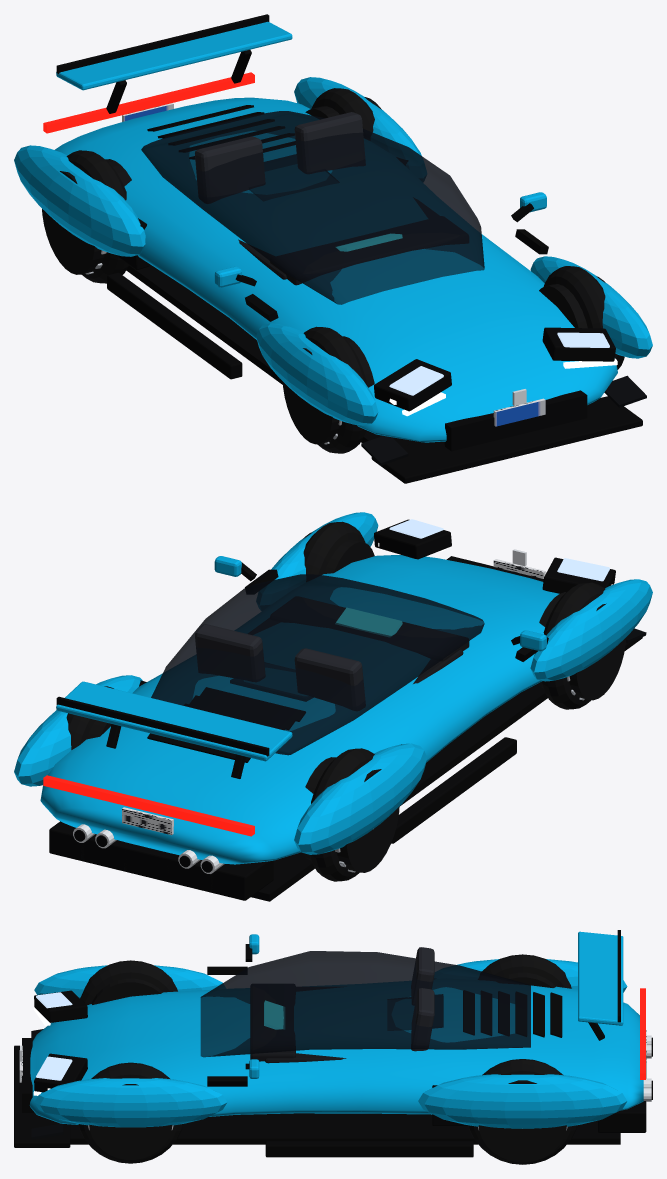
Rendered from car.glb.
3 renders of one model, top to bottom at view 1: azimuth 30°, elevation 25°; view 2: azimuth 150°, elevation 25°; view 3: azimuth 270°, elevation 25°, orthographic. The views are drawn at different scales.
Visible parts, largest first — view 1: Hull, Canopy, FlareRL, Splitter, FlareFL, Wing, IFloor, SeatBack.001, Grille, SeatBack, Skirt.001, FlareFR (+19 smaller); view 2: Hull, Canopy, FlareRL, FlareFL, Diffuser, Wing, IFloor, FlareRR, SeatBack.001, SeatBack, Skirt.001, TailBar (+20 smaller); view 3: Hull, Canopy, FlareRR, IFloor, FlareFR, Wing, Skirt, TreadRL, TreadFL, FlareFL, Splitter, TireFR (+28 smaller).
Part boxes in pixels (x1,y1,x2,y2): Hull: (55,97,617,442); Canopy: (141,111,484,304); FlareRL: (14,145,145,256); Splitter: (371,396,642,483); FlareFL: (256,323,378,425); Wing: (56,21,292,90); IFloor: (126,264,418,446); SeatBack.001: (195,136,265,197); Grille: (445,390,587,451); SeatBack: (294,112,364,172); Skirt.001: (107,272,242,379); FlareFR: (530,256,652,358); Hull: (40,555,559,864); Canopy: (151,574,484,755); FlareRL: (294,743,427,854); FlareFL: (530,579,652,681); Diffuser: (49,821,273,900); Wing: (56,681,292,761); IFloor: (251,684,547,901); FlareRR: (14,675,142,786); SeatBack.001: (294,648,364,706); SeatBack: (195,624,265,679); Skirt.001: (391,737,516,843); TailBar: (43,775,254,836); Hull: (29,985,643,1124); Canopy: (200,951,530,1057); FlareRR: (418,1074,627,1128); IFloor: (70,1113,620,1144); FlareFR: (34,1078,227,1127); Wing: (578,931,623,1025); Skirt: (265,1141,473,1157); TreadRL: (478,1080,566,1162); TreadFL: (89,1084,172,1159); FlareFL: (34,965,222,998); Splitter: (14,1045,70,1147); TireFR: (80,960,177,1005).
Bounding box in the file's own units: 2.37 × 1.14 × 4.76.
17 materials, 1 textured.
